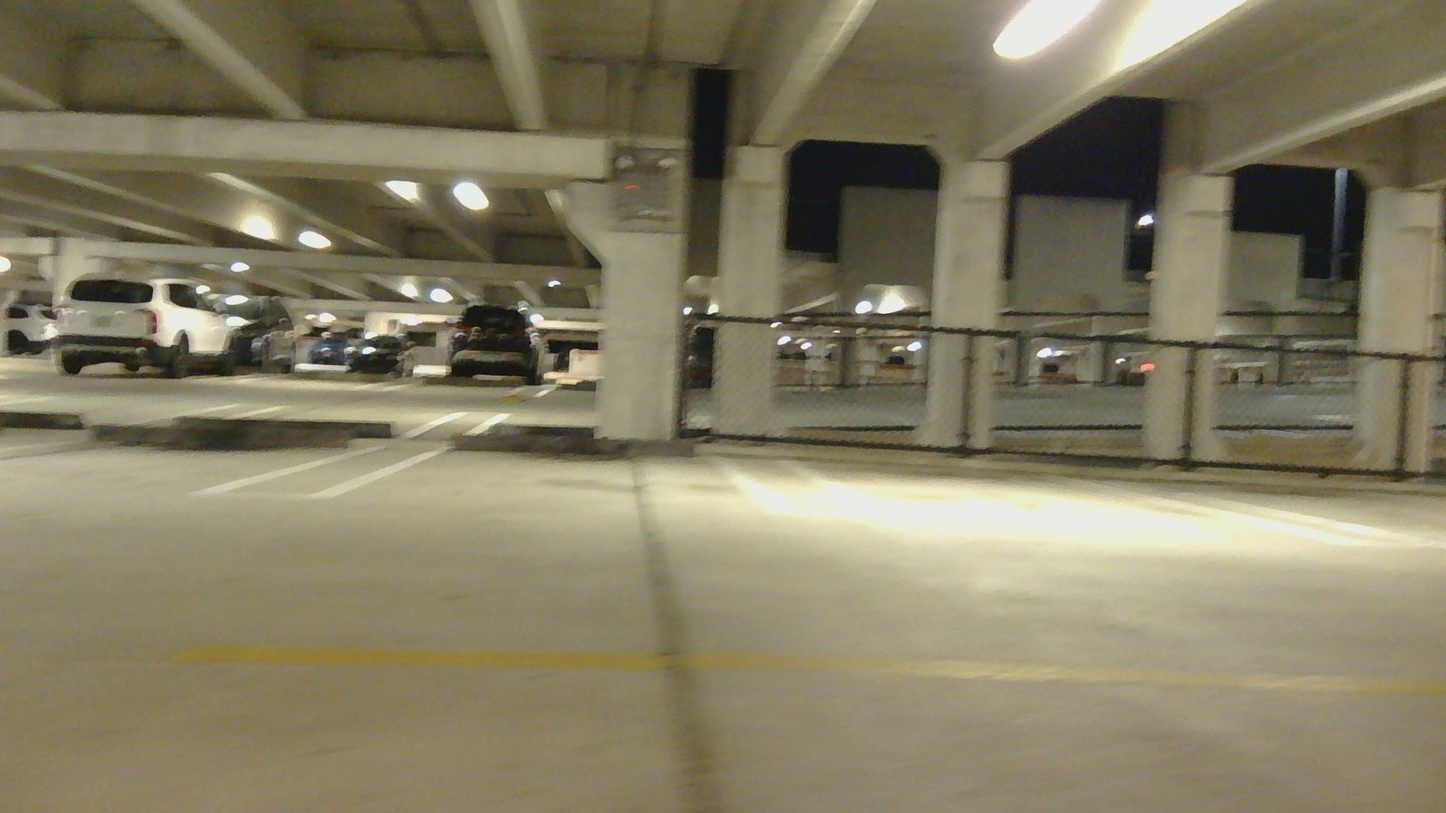empty_spot: (768, 393, 1393, 549), (307, 371, 825, 512), (1089, 397, 1446, 561), (0, 406, 414, 505)
